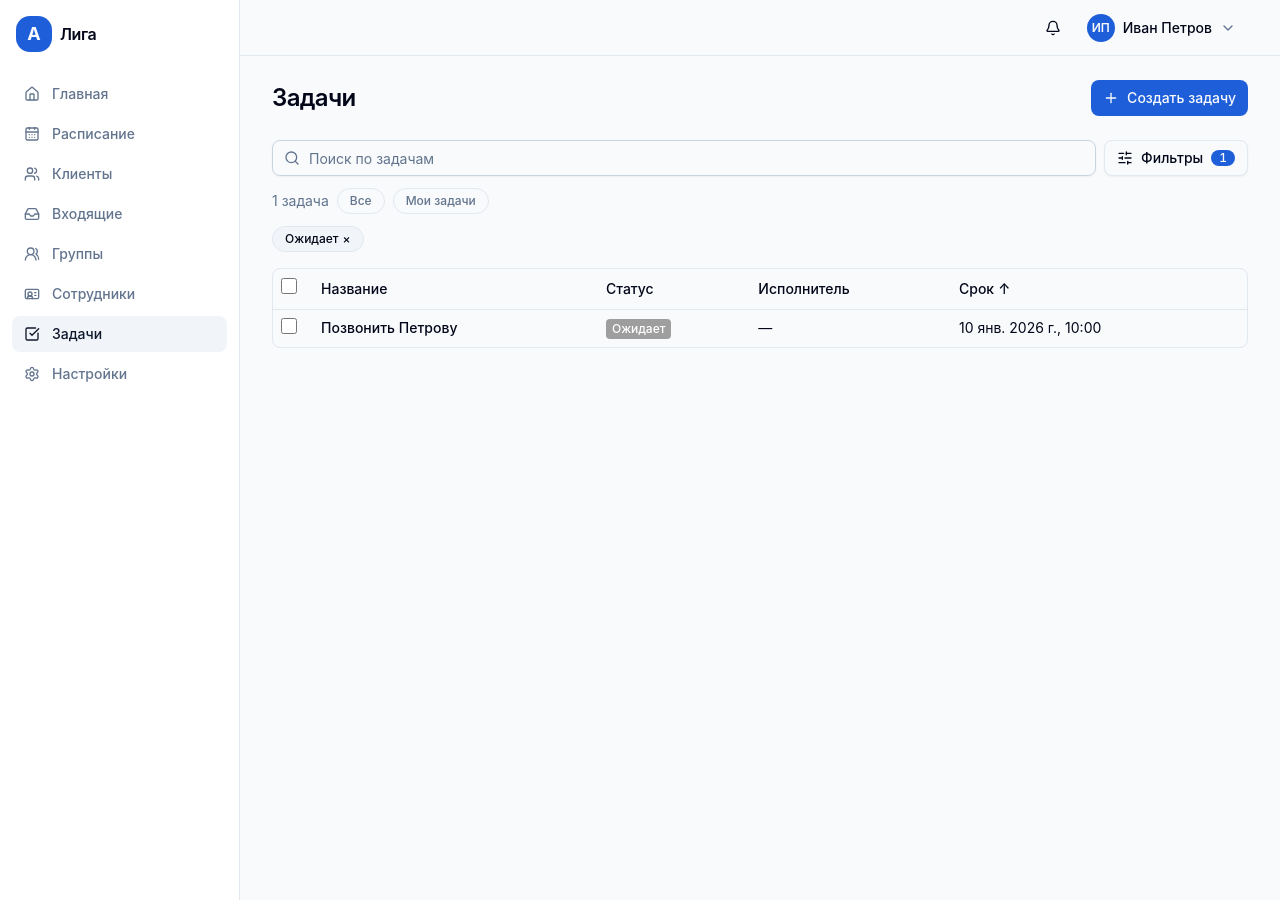
Test: карточка задачи › клик по строке списка открывает карточку и добавляет задачу в адрес
Click the link "Позвонить Петрову".
click(389, 328)  # box left=321, top=319, right=457, bottom=336
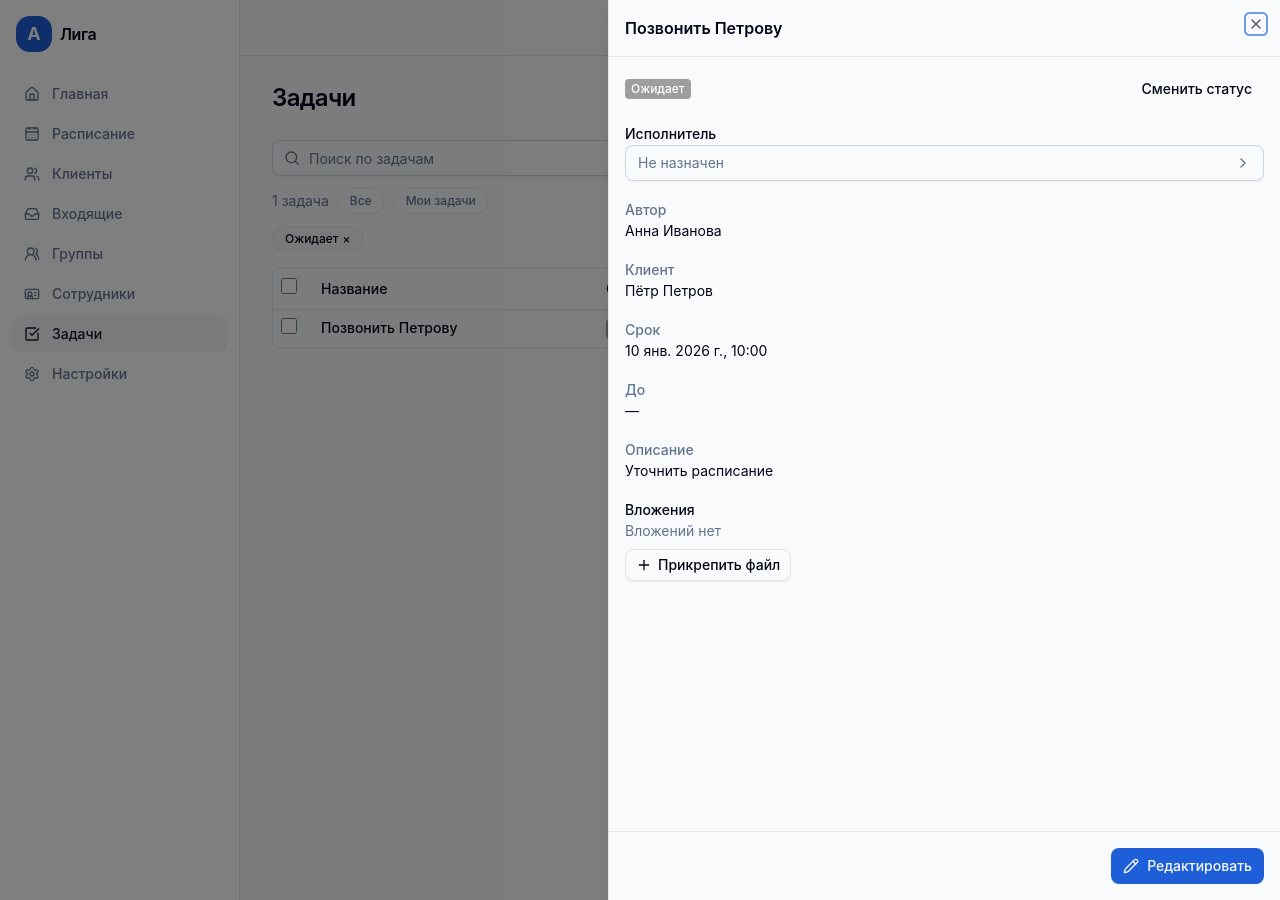
Result: the text "Уточнить расписание" is shown at left=625, top=462, right=773, bottom=479
Press Escape
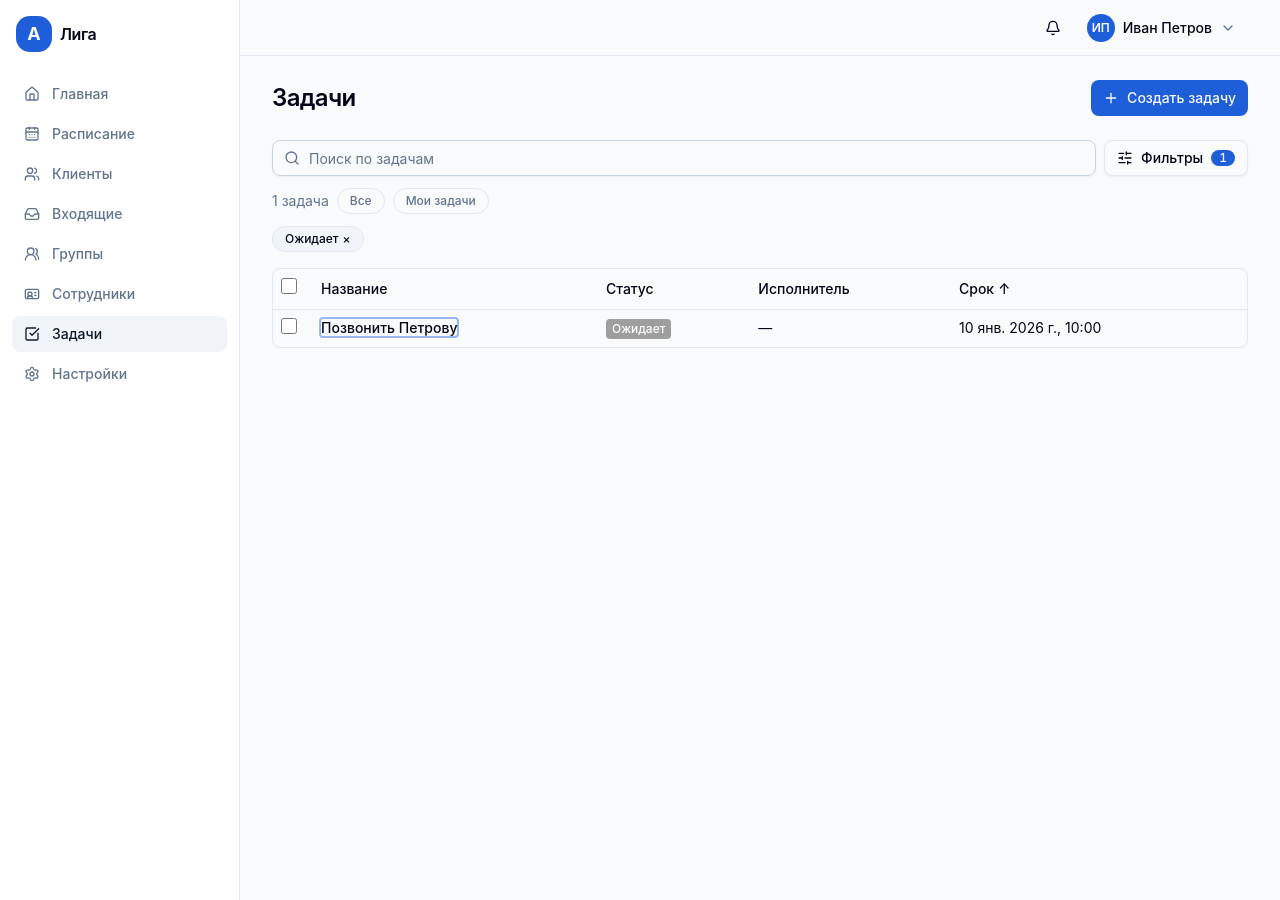
Result: the dialog is gone
